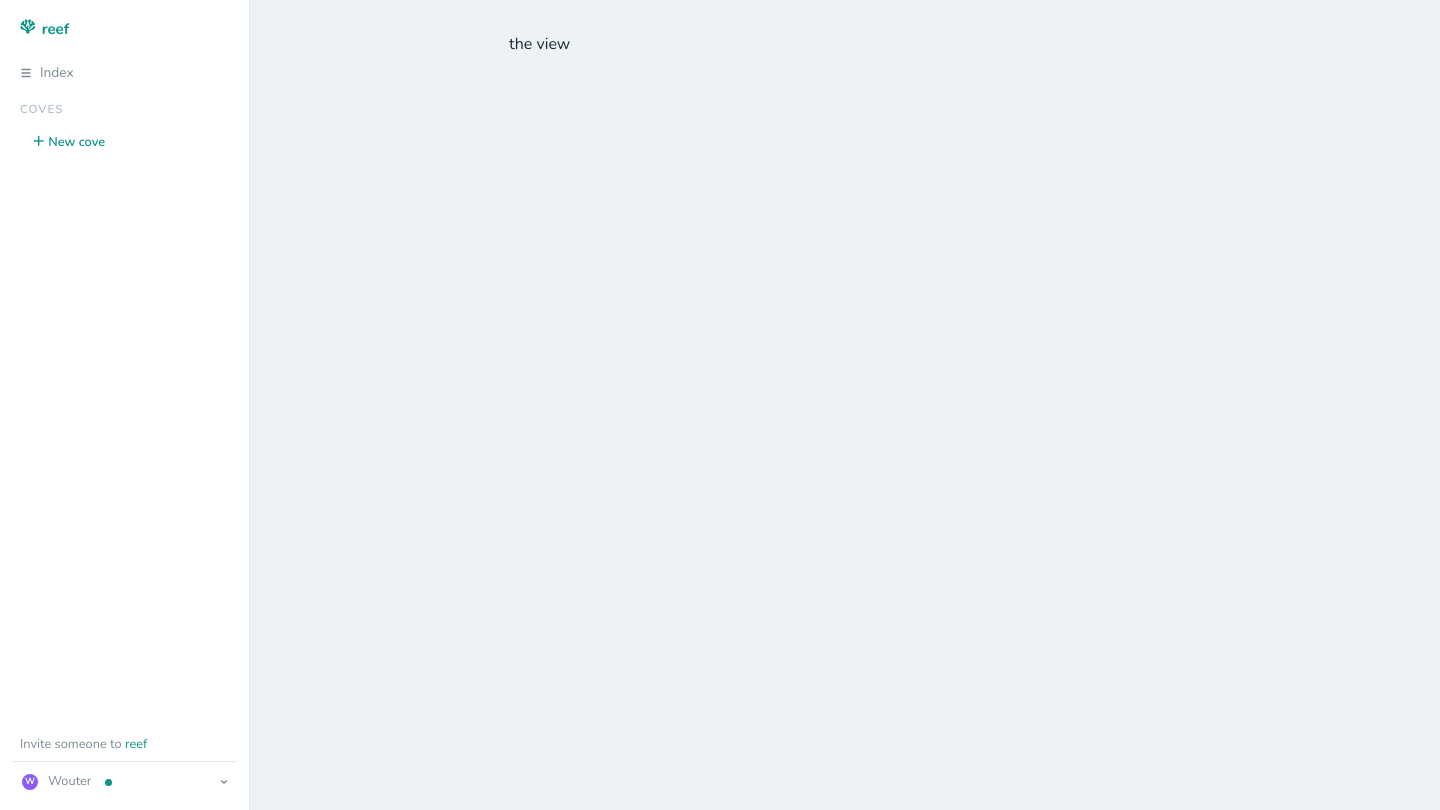
opening the what's new panel marks it read once, without a second fetch
Expected: the text "Wouter" is shown, [48, 772, 91, 792]
Expected: the element named "unread" is shown, [105, 778, 112, 786]
Click the button "W Wouter".
click(124, 782)  # box [14, 768, 235, 796]
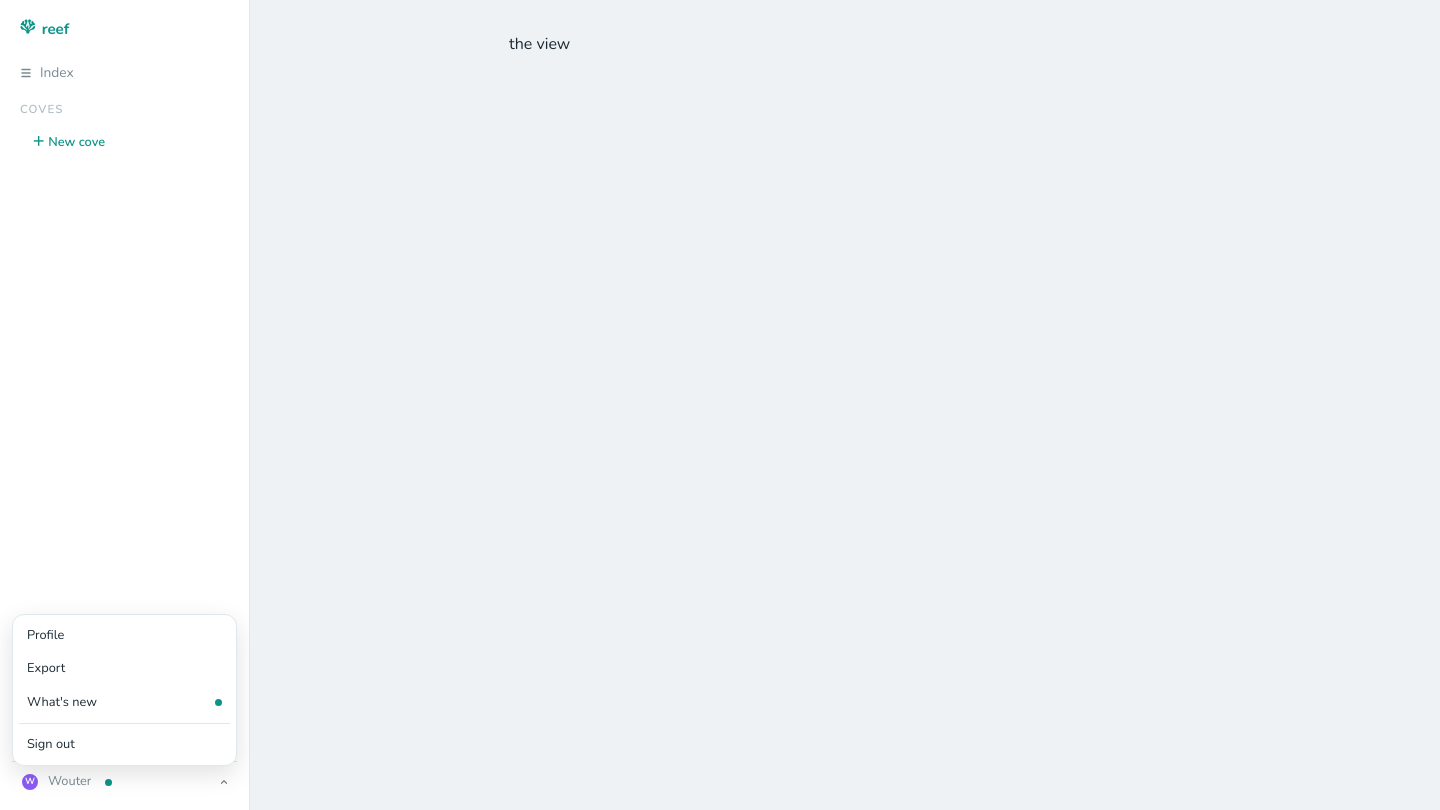
Click the menu item "What's new".
click(124, 702)  # box [17, 686, 232, 719]
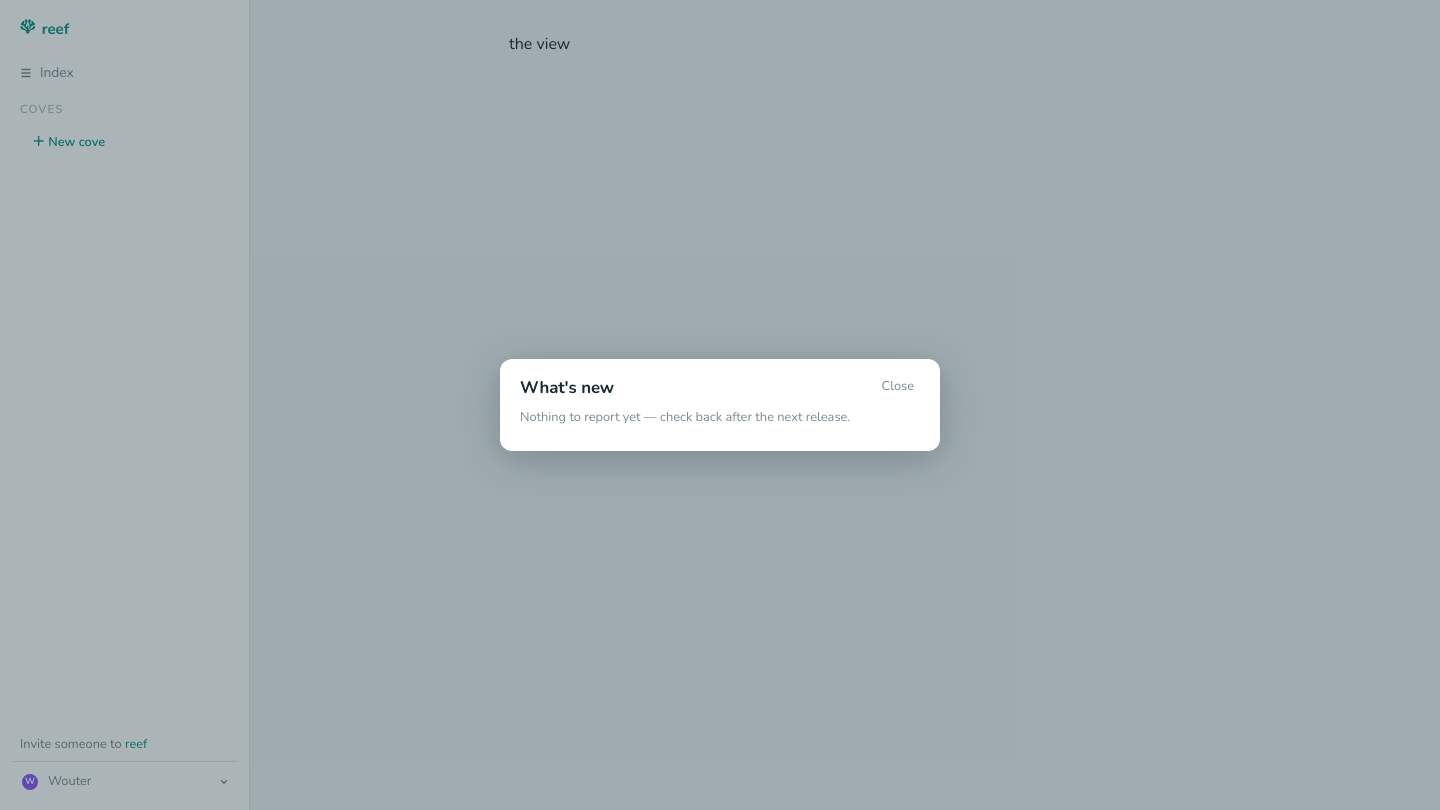
Now the field labelled "unread" is gone
